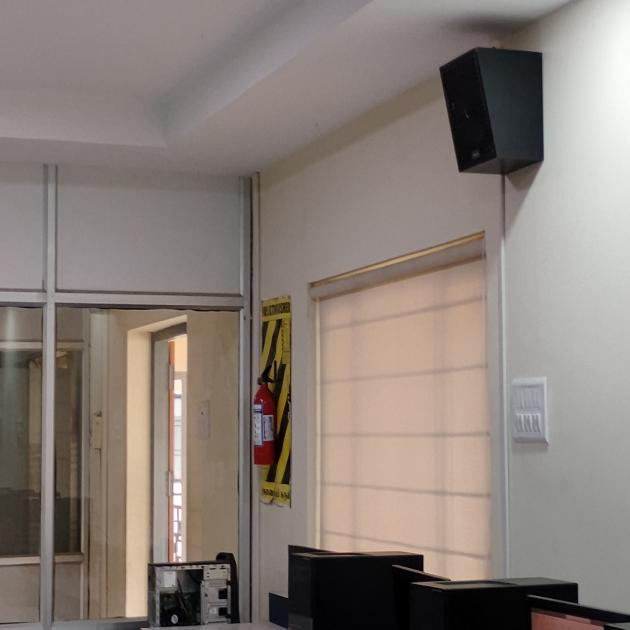fireestinguisher: (250, 298, 296, 507)
speaker: (428, 7, 595, 242)
windowscreen: (303, 257, 533, 584)
